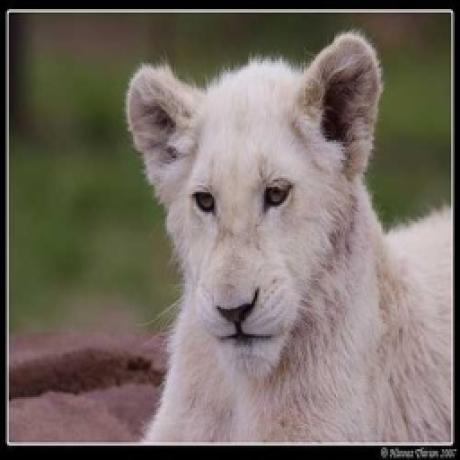Lion: (123, 28, 454, 443)
